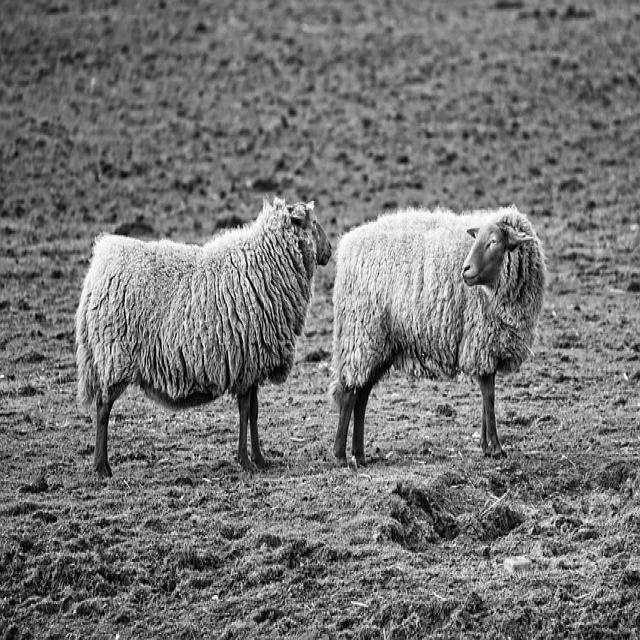goat: (76, 199, 331, 477), (331, 206, 545, 464)
